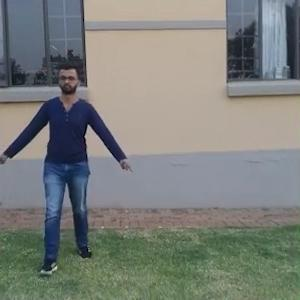land: (3, 64, 136, 278)
